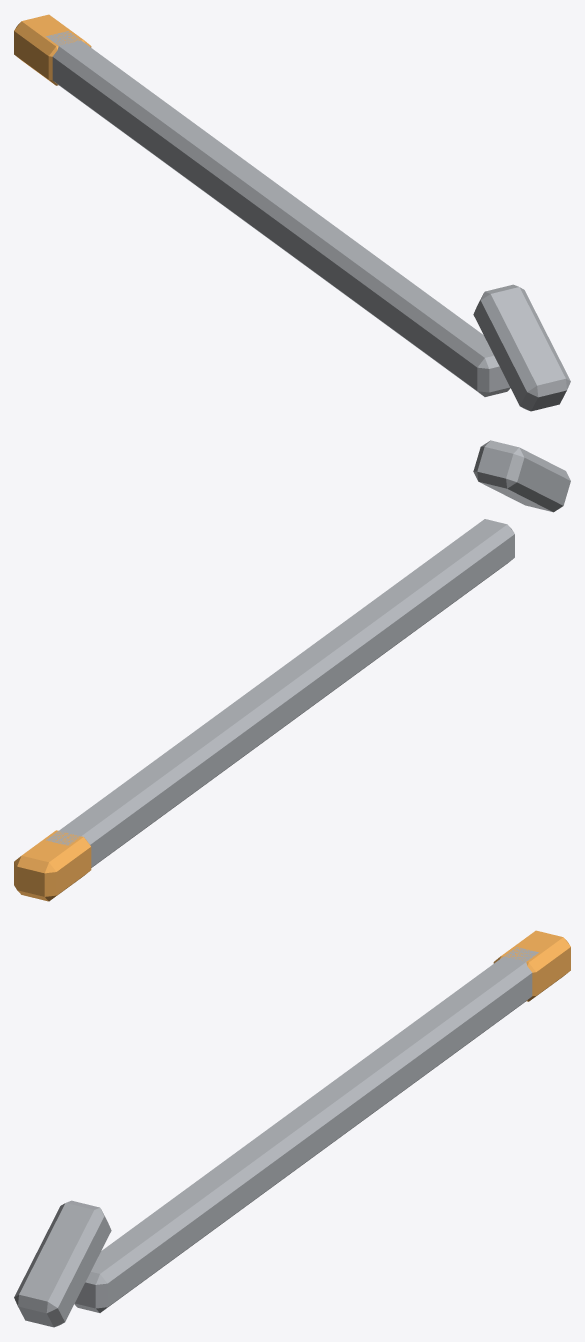
File: crowbar.glb
The picture shows the model from 3 angles, top to bottom: view 1: azimuth 30°, elevation 25°; view 2: azimuth 150°, elevation 25°; view 3: azimuth 330°, elevation 25°; orthographic projection.
Parts seen in each view (by area): view 1: Tool_crowbar; view 2: Tool_crowbar; view 3: Tool_crowbar.
Part boxes in pixels (box(x1,y1,x2,y2)): Tool_crowbar: box(14, 14, 570, 411); Tool_crowbar: box(14, 440, 570, 901); Tool_crowbar: box(14, 930, 570, 1327).
Bounding box in the file's own units: 0.035 × 0.0844 × 0.7222.
